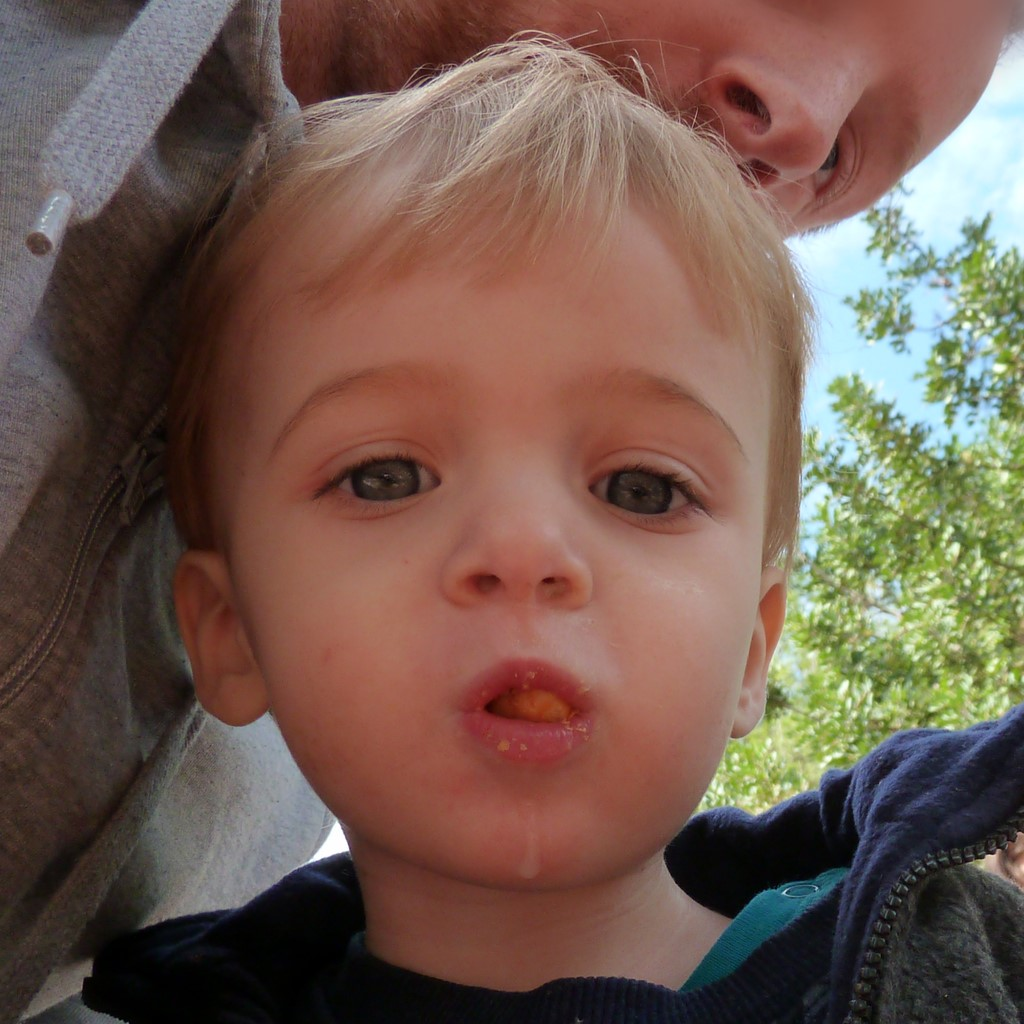sin_mascara: (212, 123, 793, 884)
